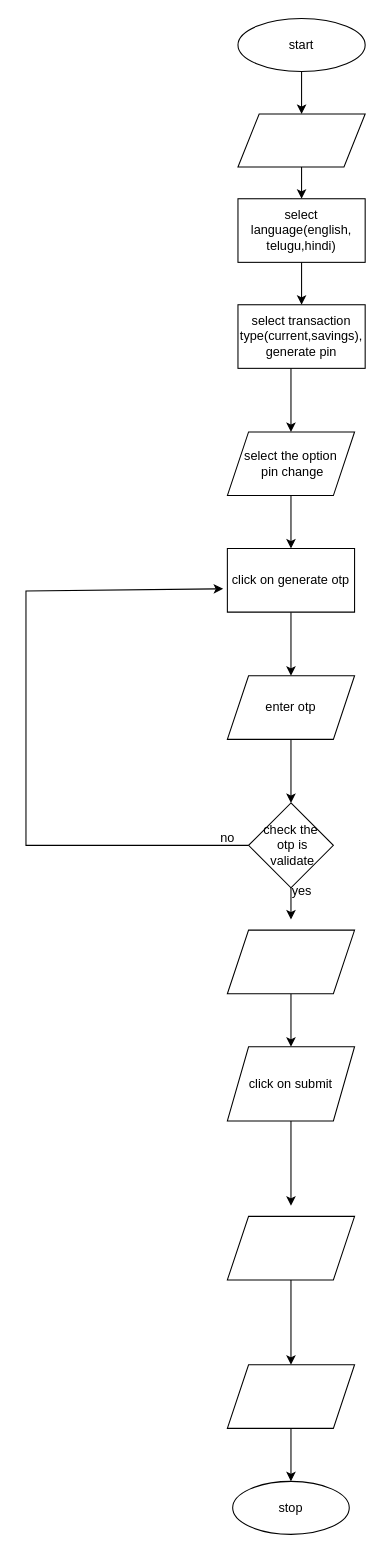
Image size: 384x1553. Some labels were removed from this diagram. The box of each missing label's shape, as (x1, y1, x2, y2) in pixels:
create new pin twice: (226, 929, 355, 994)
insert the card: (237, 113, 365, 167)
pin changed succesfully: (226, 1215, 355, 1280)
take out atm card: (226, 1364, 355, 1428)
